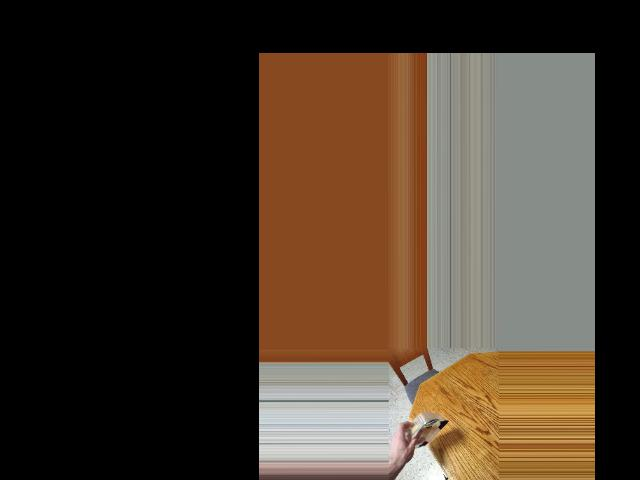cheese: (402, 403, 445, 462)
